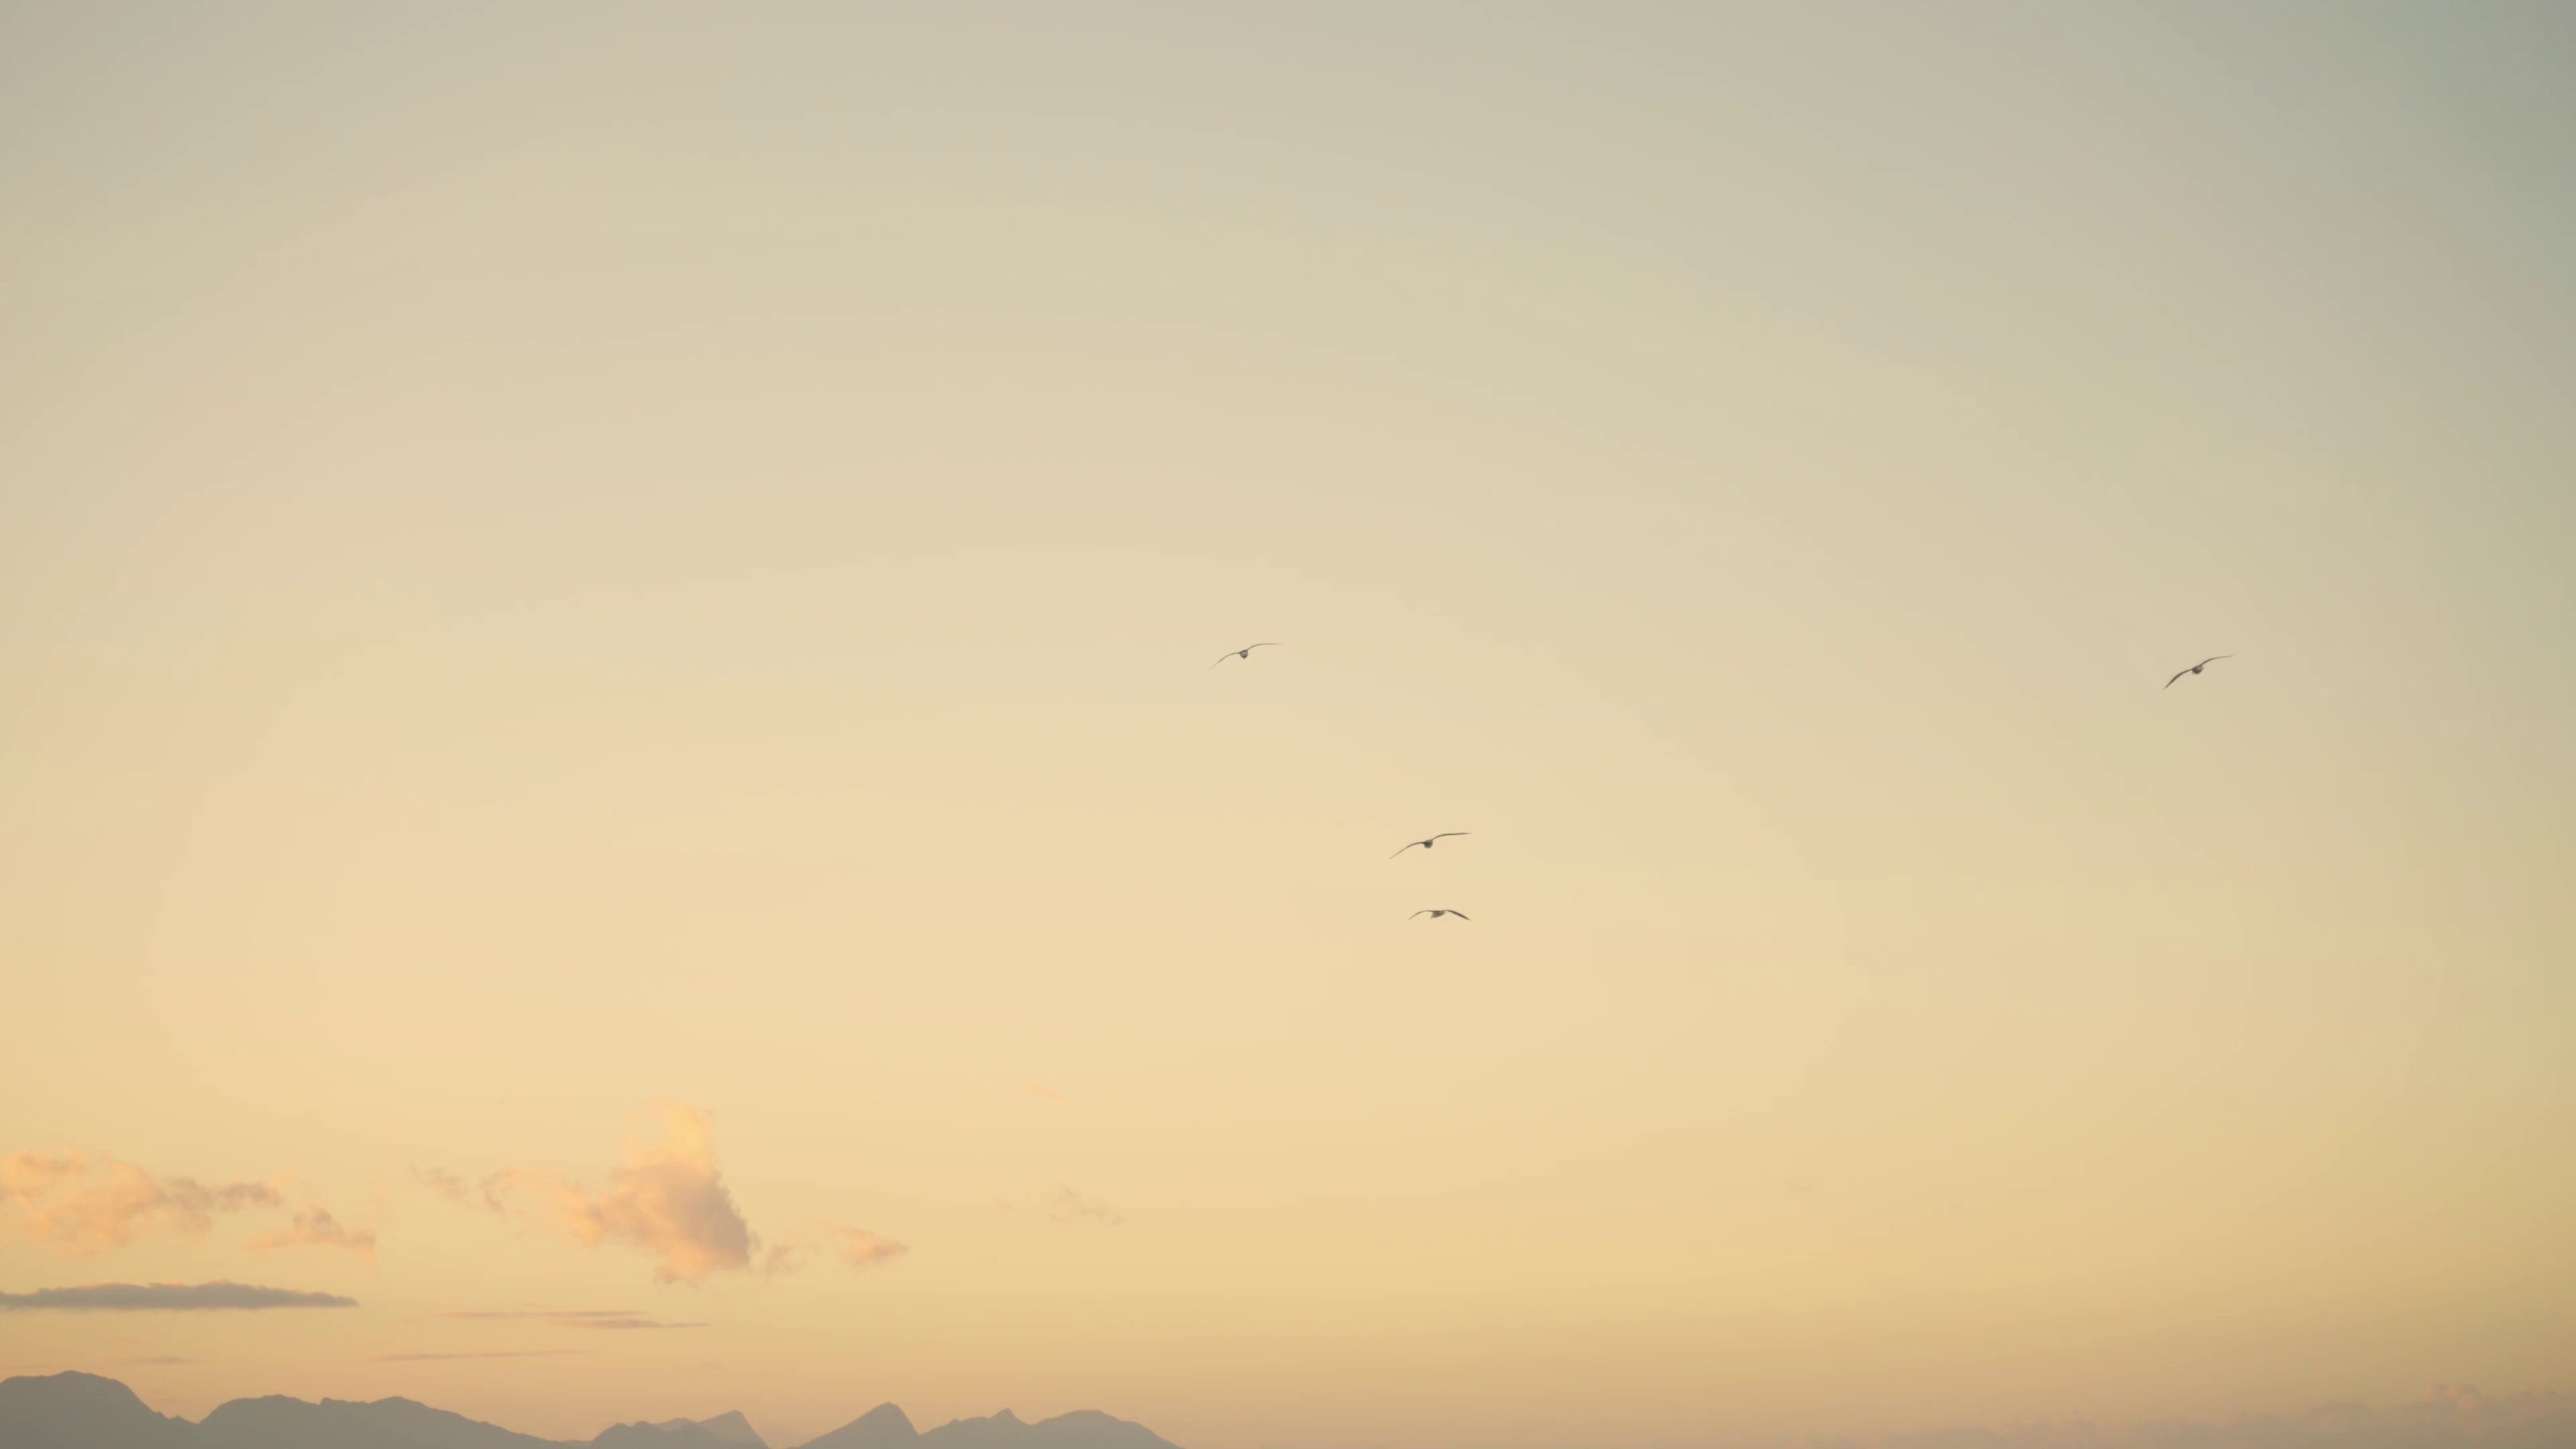bird: (1389, 830, 1470, 860), (2166, 651, 2229, 688), (1212, 640, 1281, 671), (1410, 908, 1468, 922)
